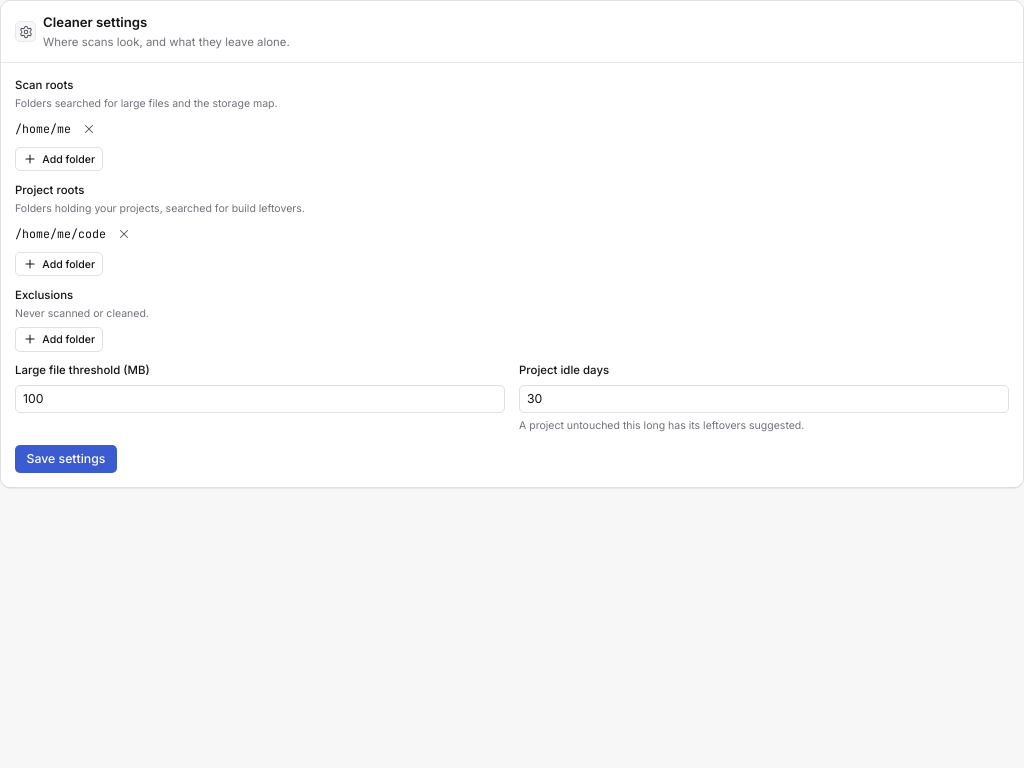
Test: CleanerSettings › saves added and removed folders and the edited numbers
Expected: the text "/home/me" is shown, x1=15 y1=120 x2=71 y2=139
Click the button "Add folder" below "Never scanned or cleaned." at (59, 339), box x1=15 y1=327 x2=103 y2=352
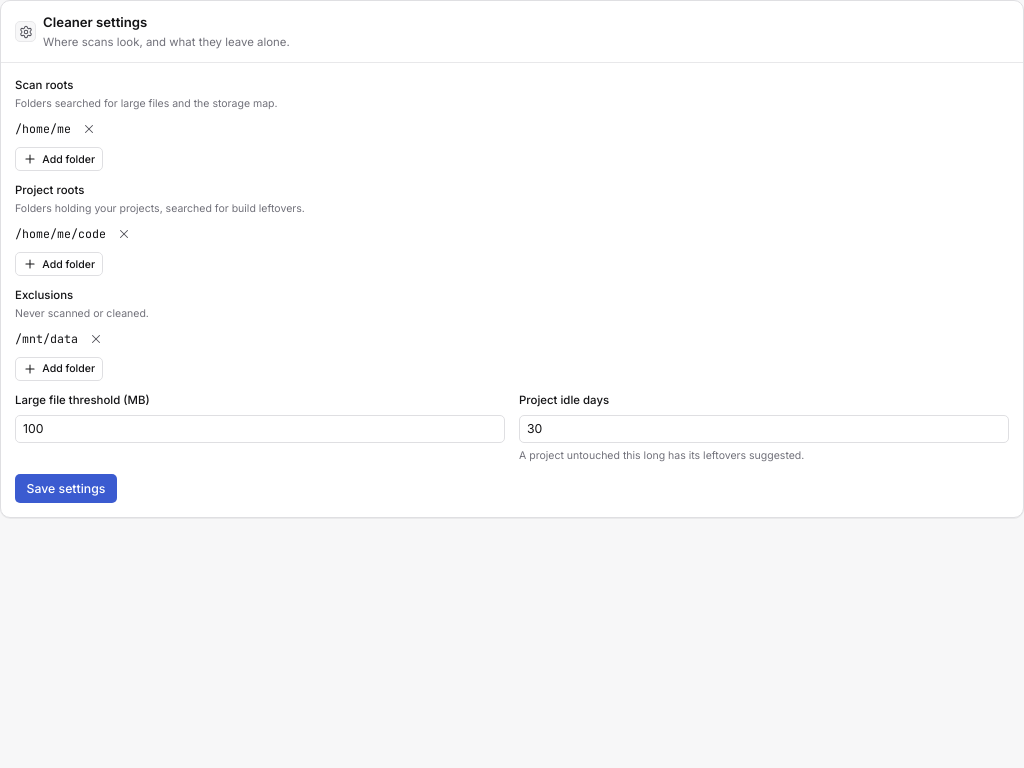
Expected: the text "/mnt/data" is shown, x1=15 y1=330 x2=78 y2=349
Click the button named "Remove /home/me/code" at (124, 234), box x1=111 y1=222 x2=136 y2=247
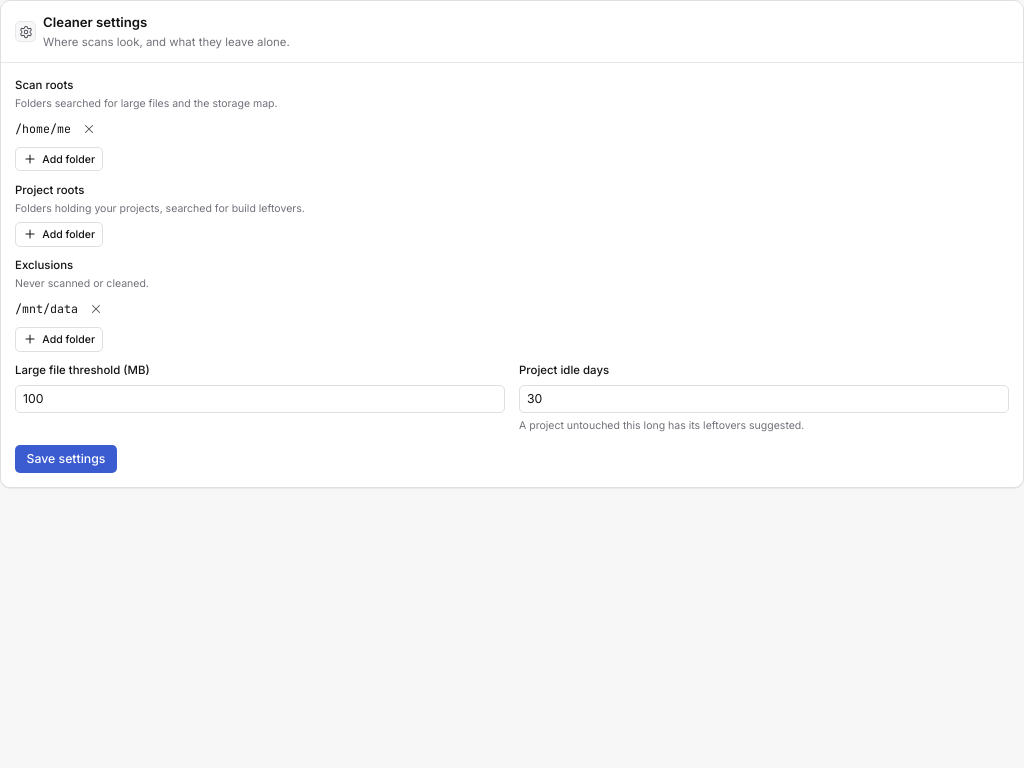
Replace the text in the field labelled "Large file threshold (MB)" with "250" at (260, 399), box x1=15 y1=385 x2=505 y2=413
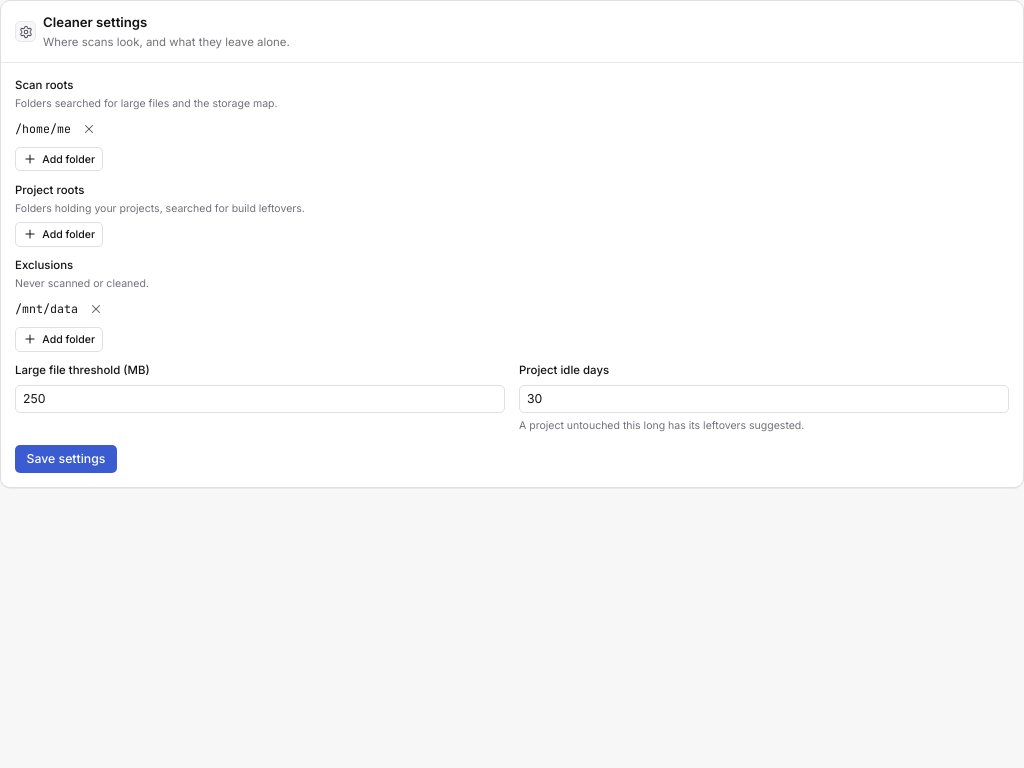
Replace the text in the field labelled "Project idle days" with "45" at (764, 399), box x1=519 y1=385 x2=1009 y2=413
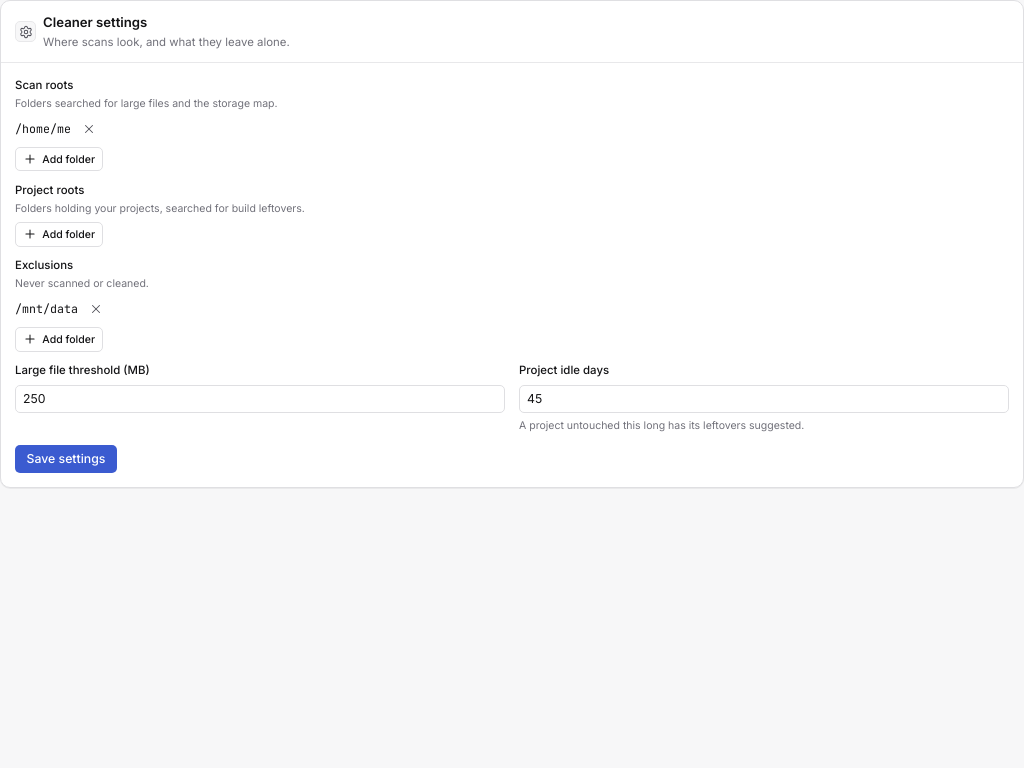
Click the button "Save settings" at (66, 459), box x1=15 y1=445 x2=117 y2=473
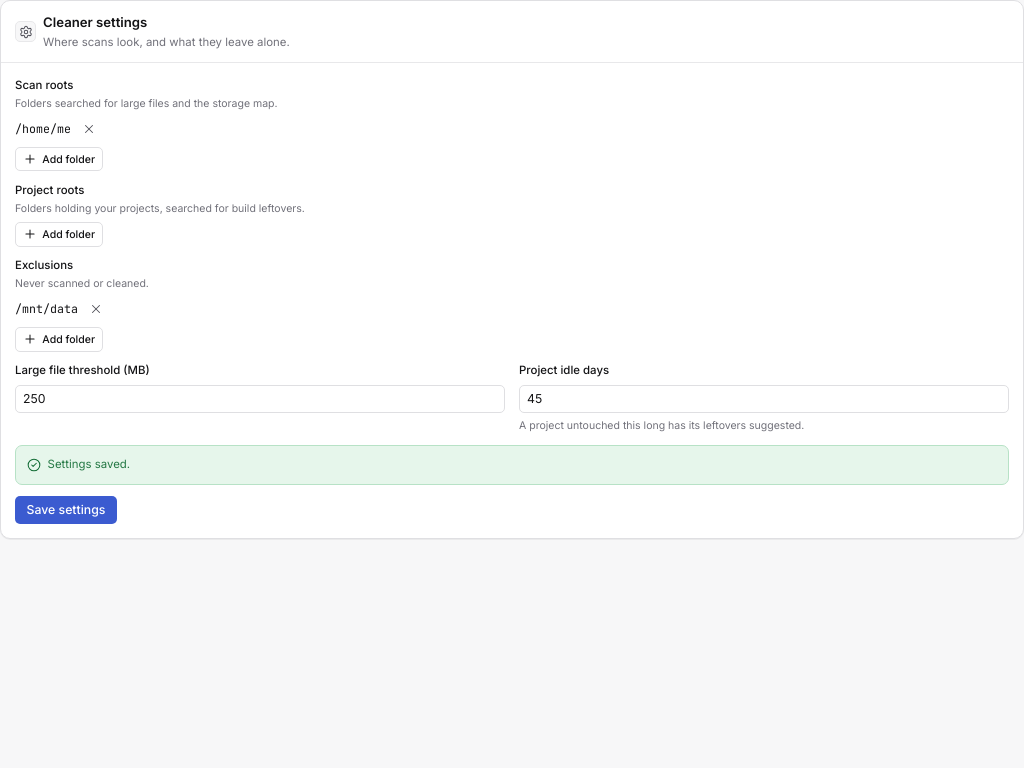
Expected: the text "Settings saved." is shown, x1=48 y1=457 x2=130 y2=471
